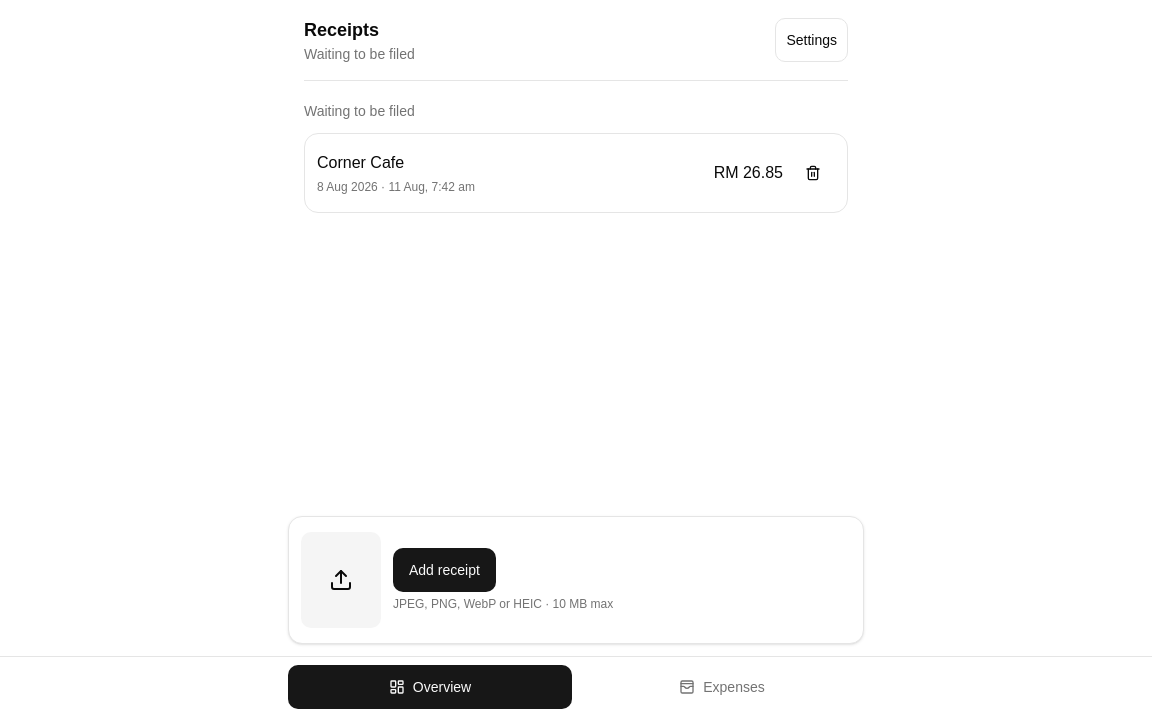
it: receipt inbox › confirms and removes a receipt
The width and height of the screenshot is (1152, 720).
Click the button named "Delete lunch.jpg". click: click(813, 173)
box: [791, 151, 835, 195]
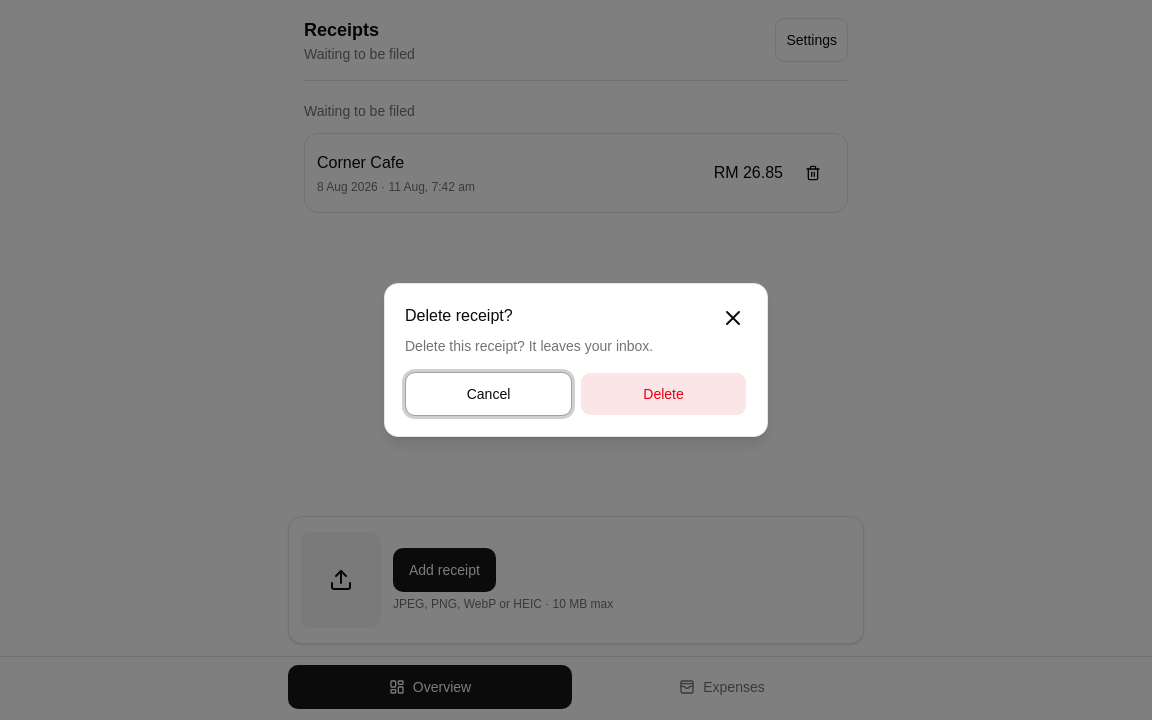
Result: the text "Delete this receipt? It leaves your inbox." is shown at [405, 338, 653, 354]
Click the button "Delete". click: click(664, 394)
box: [580, 372, 747, 416]
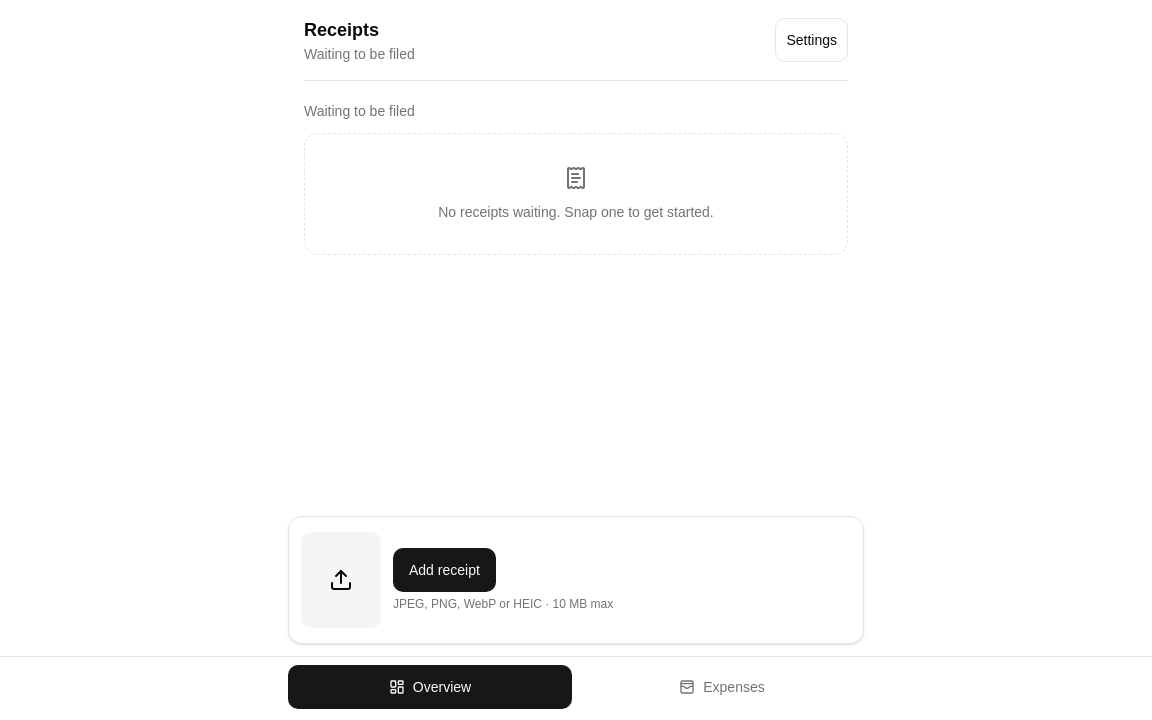
Result: the link "Corner Cafe" is gone
